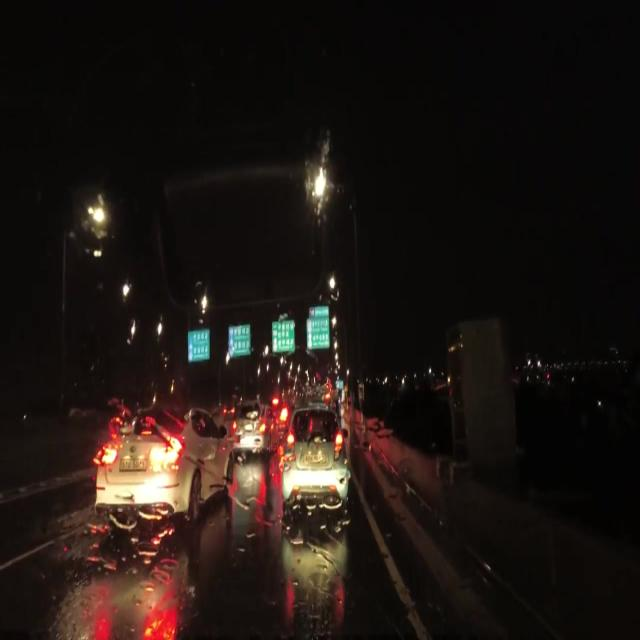Car: (95, 410, 231, 537), (281, 405, 348, 515), (230, 400, 272, 458)
